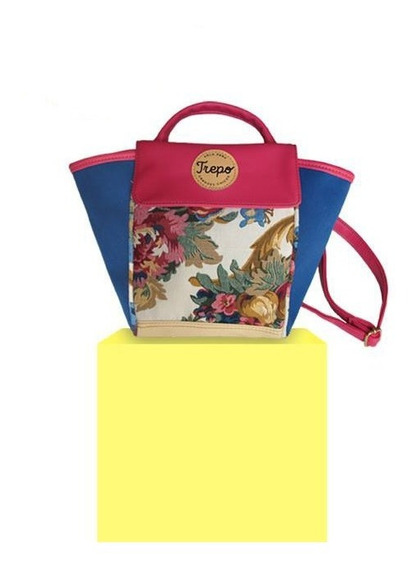cartera: (67, 100, 356, 337)
